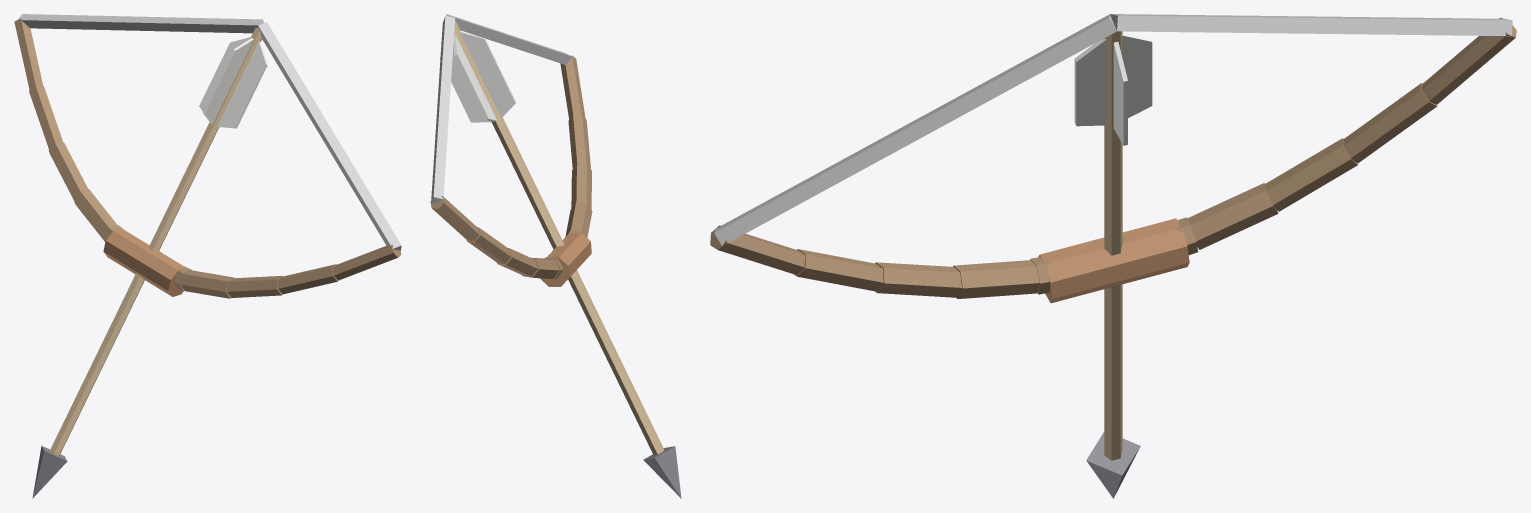
The model's file is bow_pulling_1_held.gltf.
3 views of the same model, side by side, from view 1: azimuth 30°, elevation 25°; view 2: azimuth 150°, elevation 25°; view 3: azimuth 270°, elevation 25° (orthographic). The views are drawn at different scales.
Visible parts, largest first — view 1: archery_bow_pulling_1_held; view 2: archery_bow_pulling_1_held; view 3: archery_bow_pulling_1_held.
Part boxes in pixels (box(x1,y1,x2,y2)): archery_bow_pulling_1_held: box(14, 14, 401, 498); archery_bow_pulling_1_held: box(430, 14, 681, 498); archery_bow_pulling_1_held: box(710, 14, 1516, 498).
Size of the model in its own units: 0.276 by 0.4563 by 0.5051.
